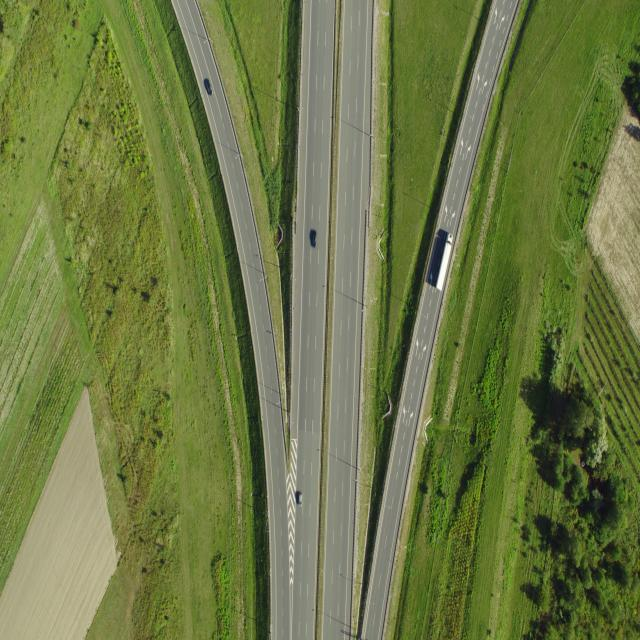vehicle: (436, 234, 453, 292), (205, 78, 212, 95), (312, 230, 316, 248), (298, 491, 302, 507)
